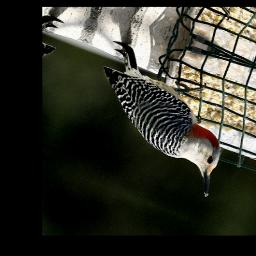Woodpecker: (75, 39, 246, 198)
